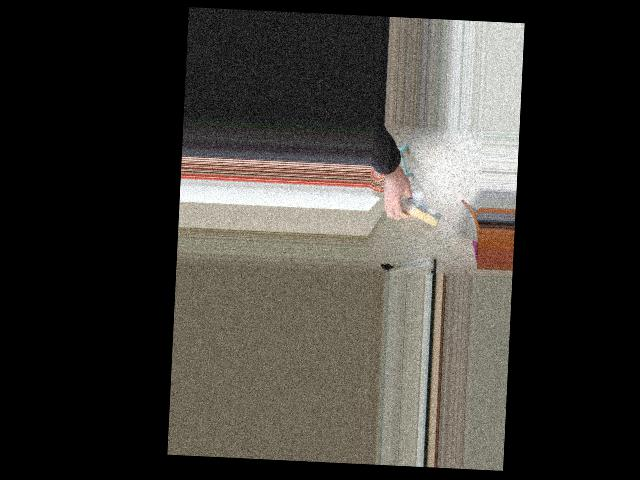cheese: (377, 185, 446, 241)
